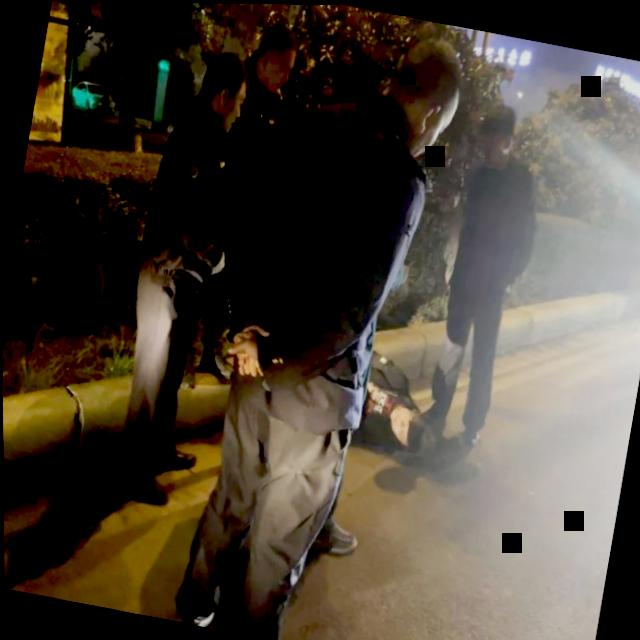Fall-Detected: (143, 206, 470, 576)
